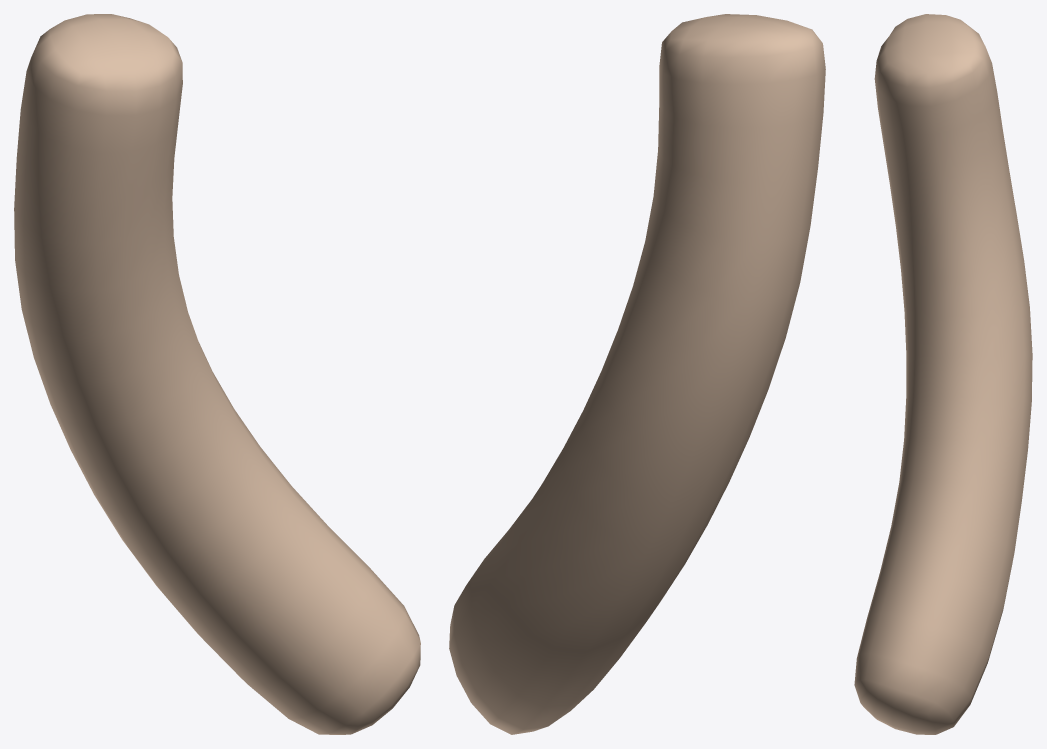
3 renders of one model, left to right at view 1: azimuth 30°, elevation 25°; view 2: azimuth 150°, elevation 25°; view 3: azimuth 270°, elevation 25°, orthographic. The views are drawn at different scales.
Parts seen in each view (by area): view 1: 右侧腓骨长肌足底腱鞘; view 2: 右侧腓骨长肌足底腱鞘; view 3: 右侧腓骨长肌足底腱鞘.
Boxes of the visible parts, x1,y1,x2,y2 form: 右侧腓骨长肌足底腱鞘: (14,14,420,734); 右侧腓骨长肌足底腱鞘: (449,14,825,734); 右侧腓骨长肌足底腱鞘: (854,14,1032,734).
Size of the model in its own units: 0.0204 by 0.0398 by 0.0105.
